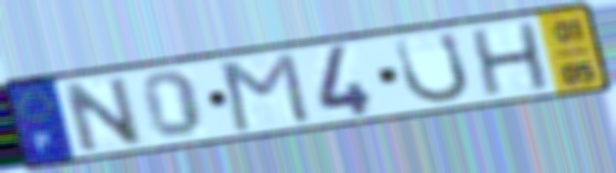0: (139, 68, 207, 142)
4: (313, 42, 377, 121)
H: (466, 19, 556, 100)
M: (219, 49, 315, 135)
N: (58, 73, 148, 156)
U: (390, 29, 474, 107)
